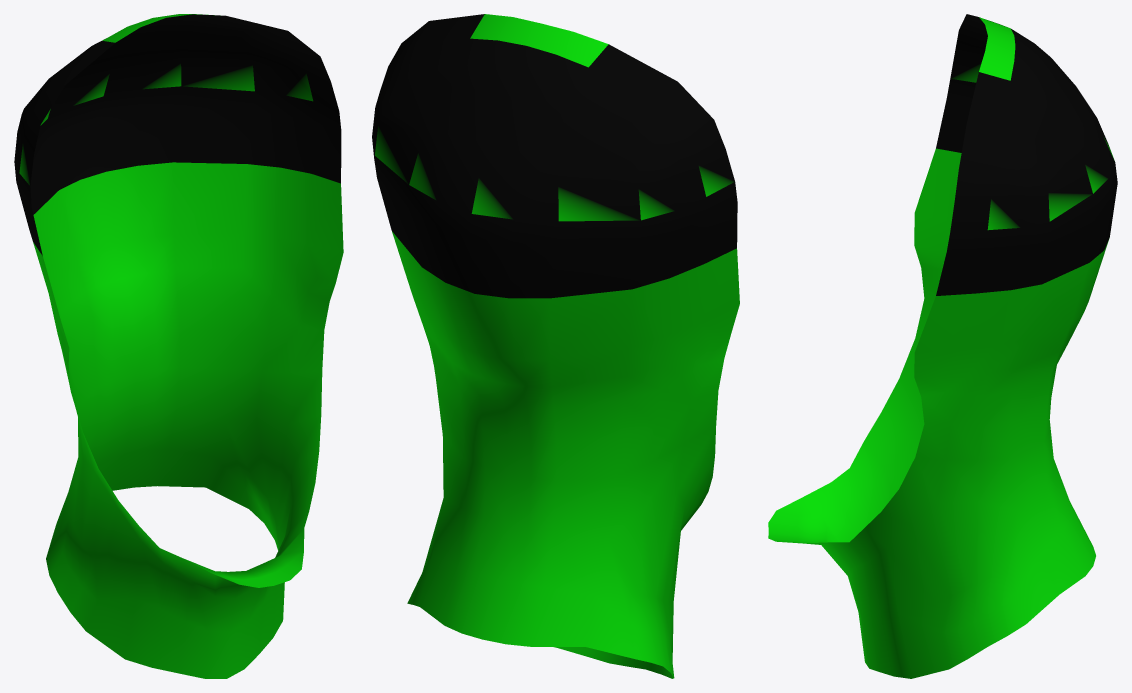
The model's file is Face Back.fbx.
The picture shows the model from 3 angles, left to right: view 1: azimuth 30°, elevation 25°; view 2: azimuth 150°, elevation 25°; view 3: azimuth 270°, elevation 25°; orthographic projection. The views are drawn at different scales.
Parts seen in each view (by area): view 1: Back; view 2: Back; view 3: Back.
Part boxes in pixels (bbox=[...]): Back: bbox=[14, 14, 343, 678]; Back: bbox=[372, 14, 739, 678]; Back: bbox=[768, 14, 1117, 678].
Bounding box in the file's own units: 0.3096 × 0.5891 × 0.2981.
